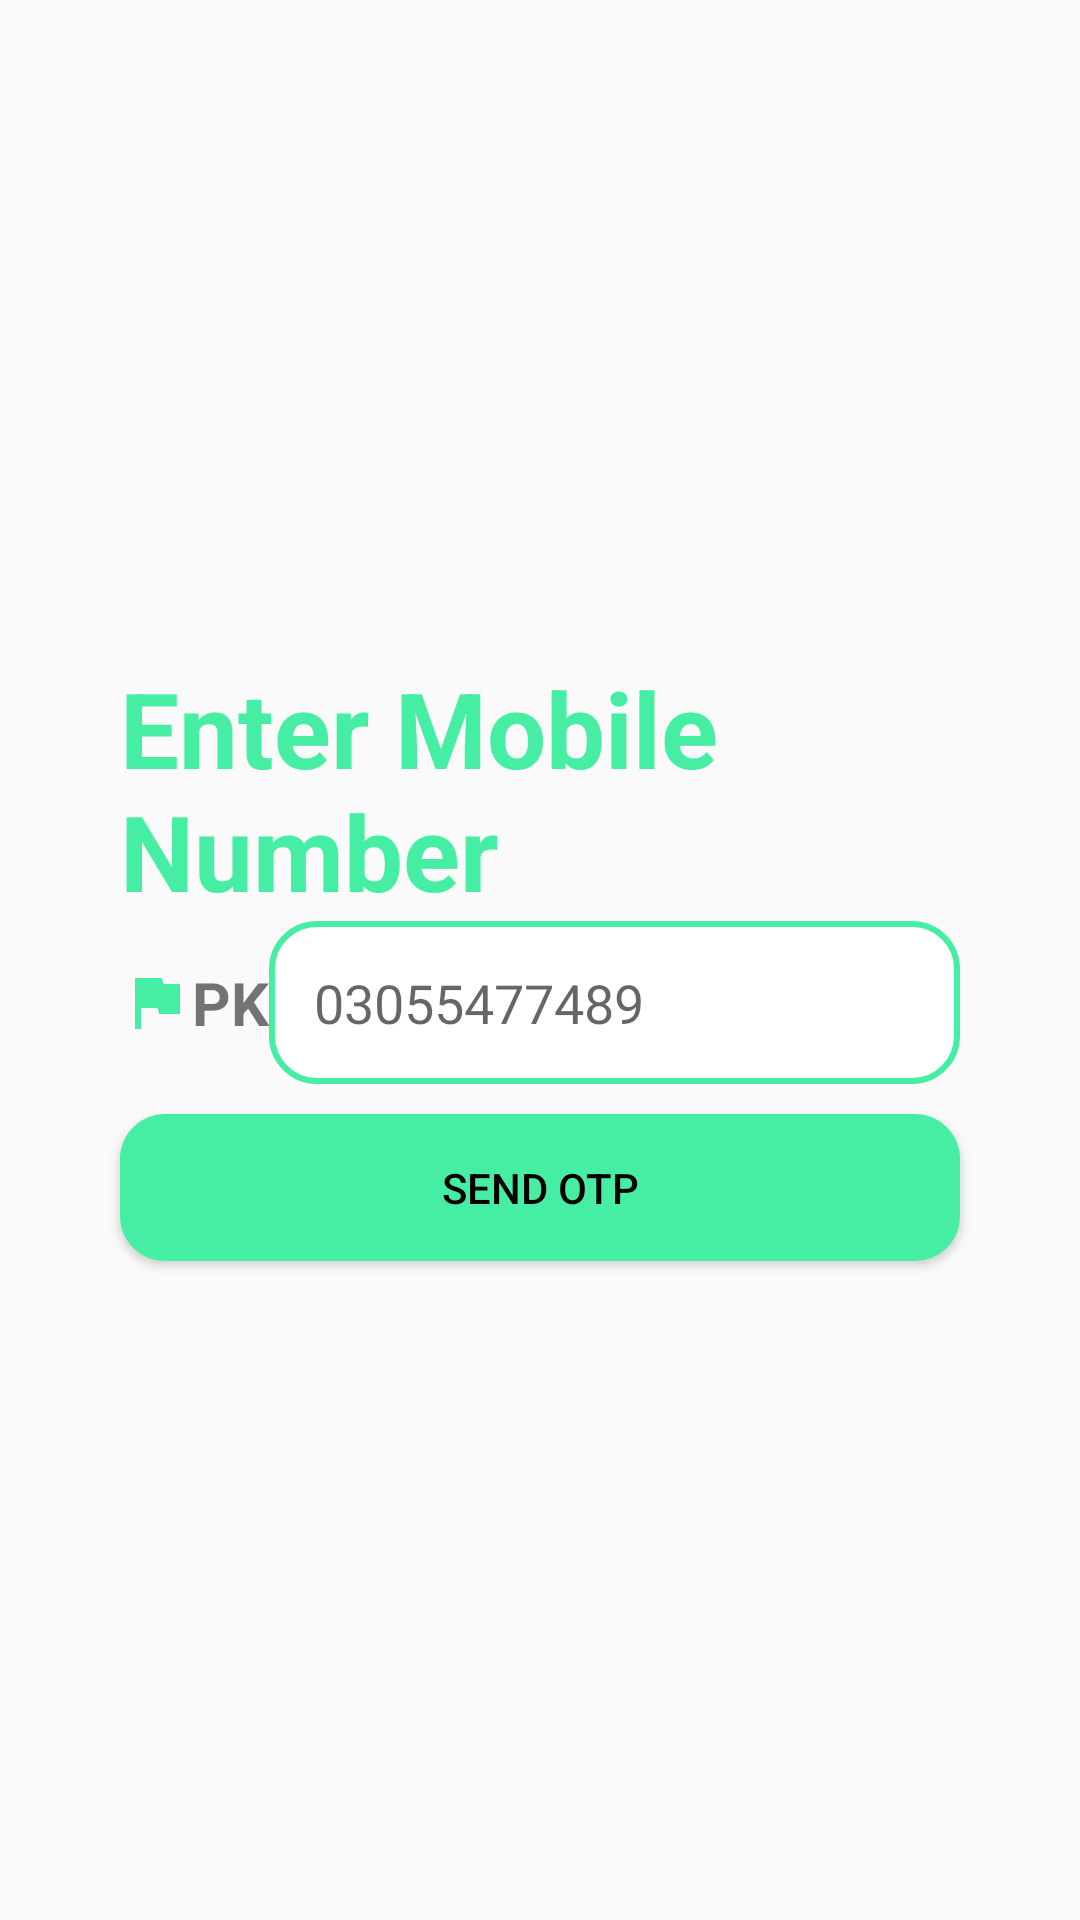

Icons on this 1080*1920 Android screen, each with the point to tap as (x=x, y=y):
flag: (x=157, y=1003)
